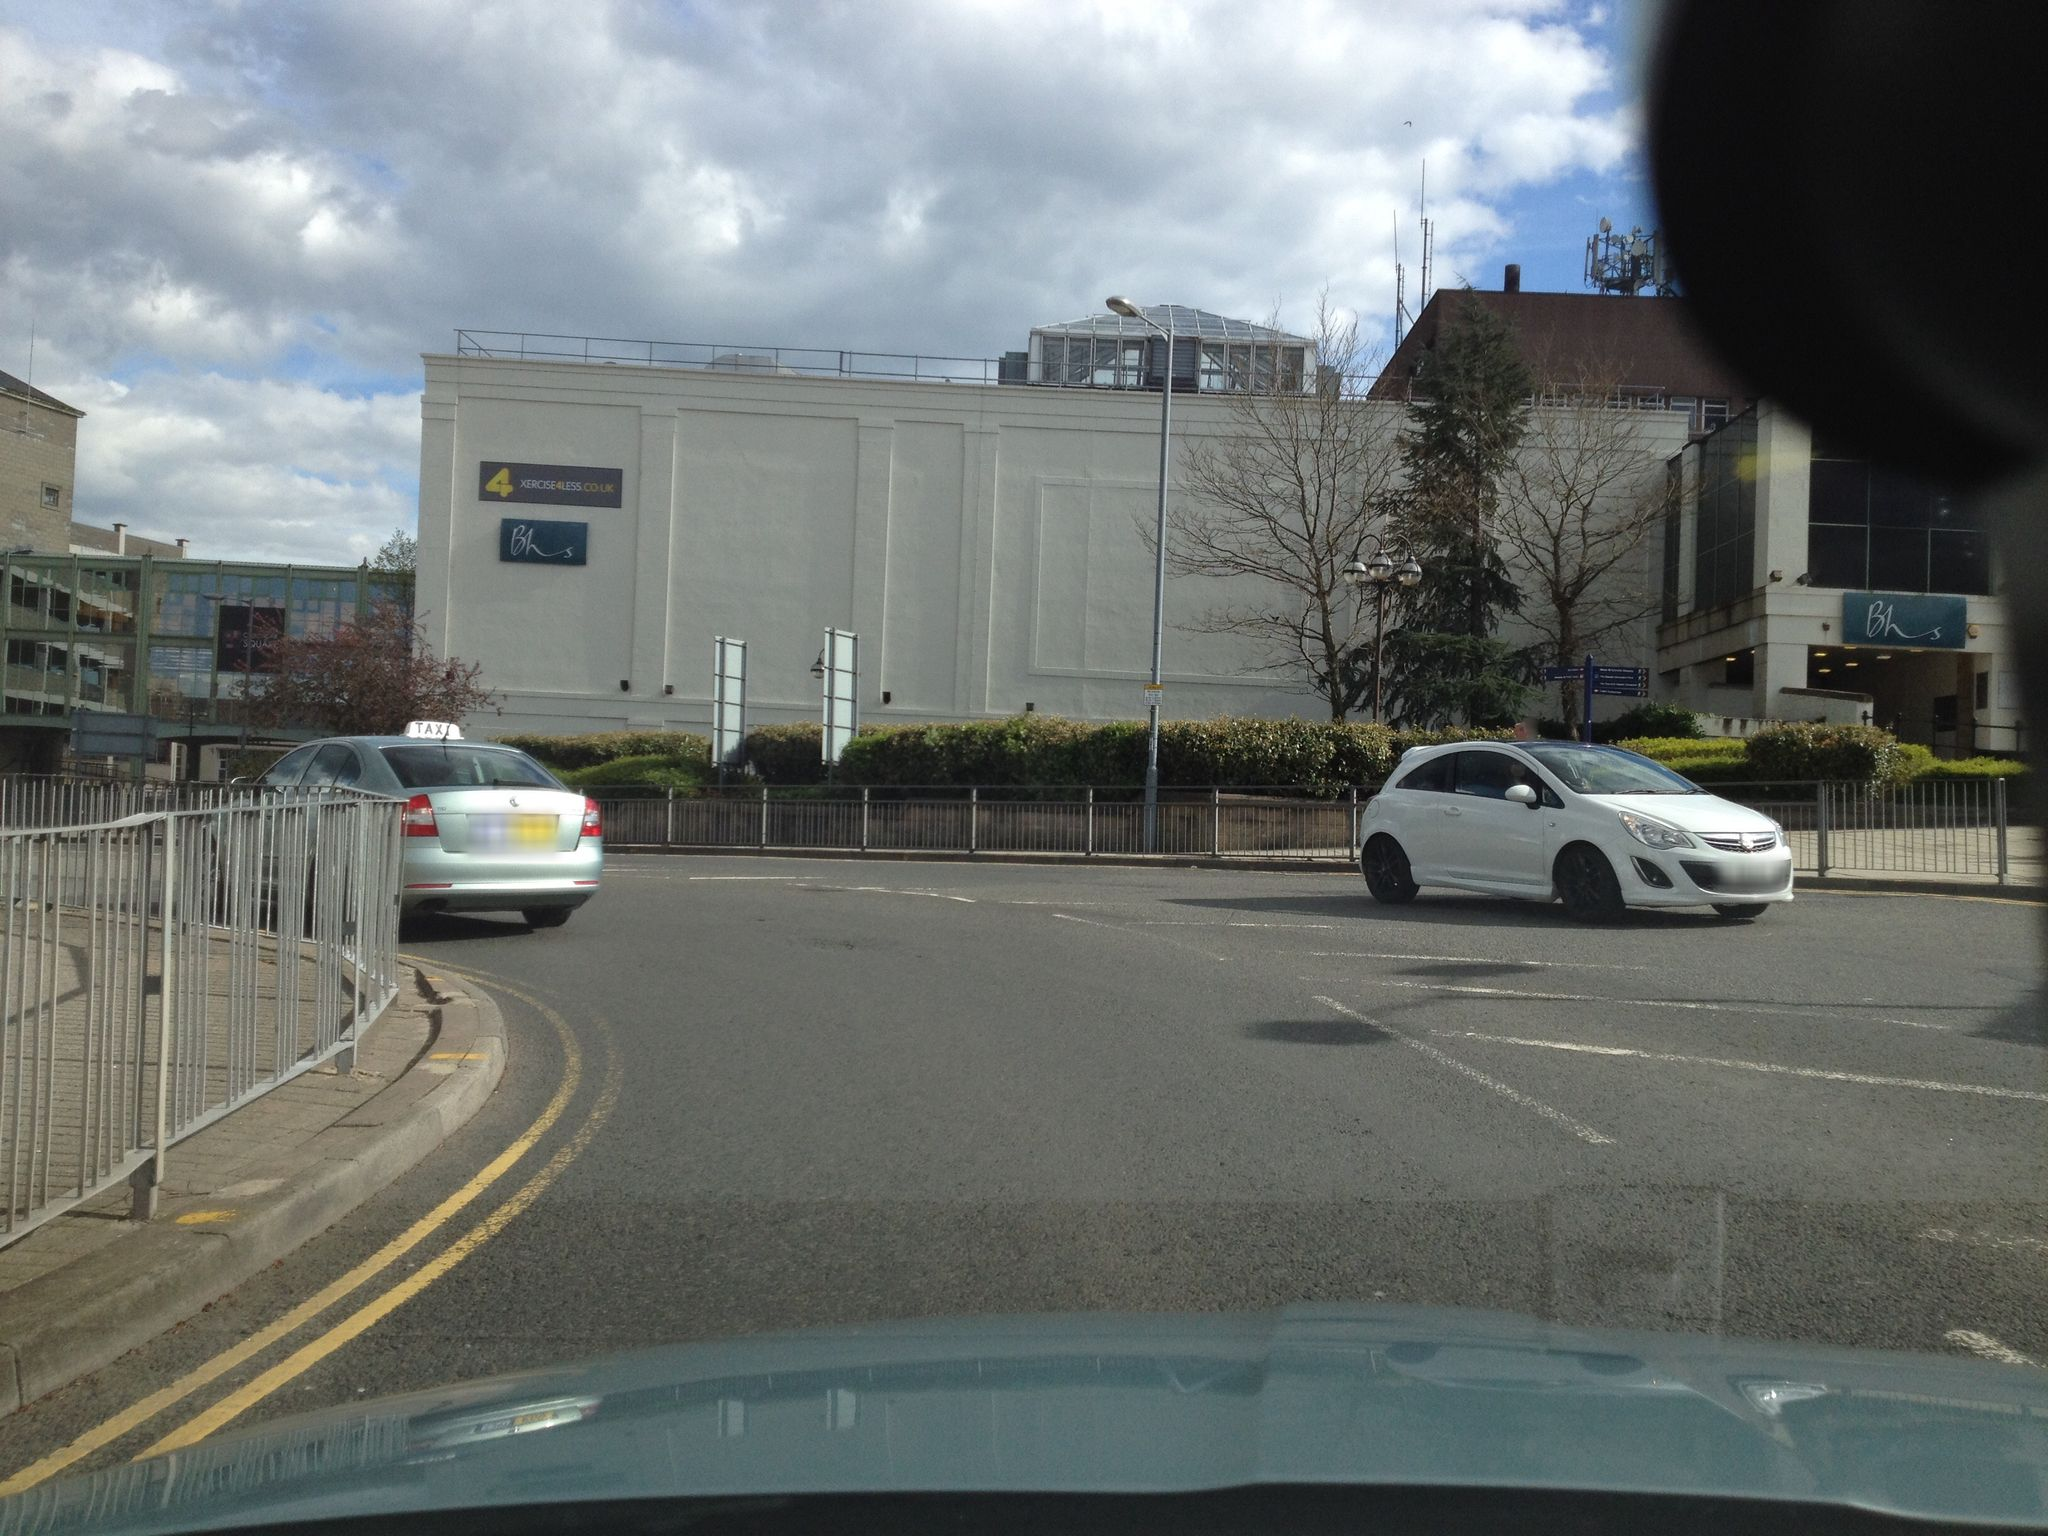car: (181, 720, 606, 931), (1361, 737, 1796, 923)
